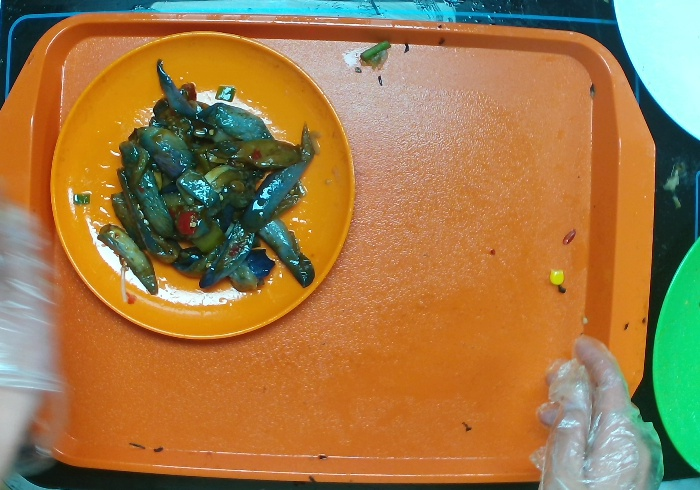HZYJPL-Ju_Huang_Yuan_Pan: (50, 26, 354, 339)
